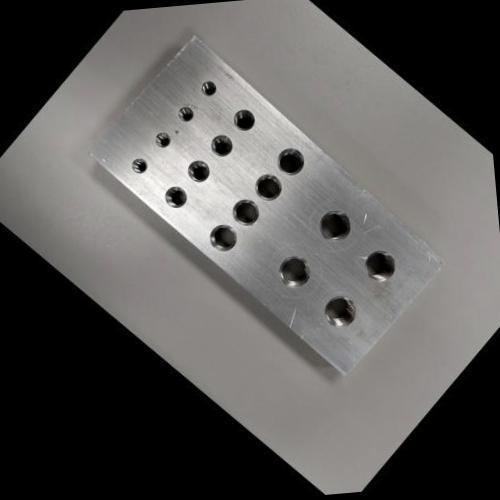hole: (314, 286, 365, 338), (310, 200, 361, 252), (269, 247, 320, 298), (355, 242, 404, 291), (200, 216, 244, 260), (268, 140, 312, 184), (223, 191, 267, 234), (246, 166, 289, 210), (180, 153, 216, 190), (225, 102, 261, 138), (158, 180, 193, 216), (204, 128, 238, 163), (126, 154, 152, 180), (195, 76, 221, 102), (149, 128, 174, 153), (173, 102, 198, 127)
